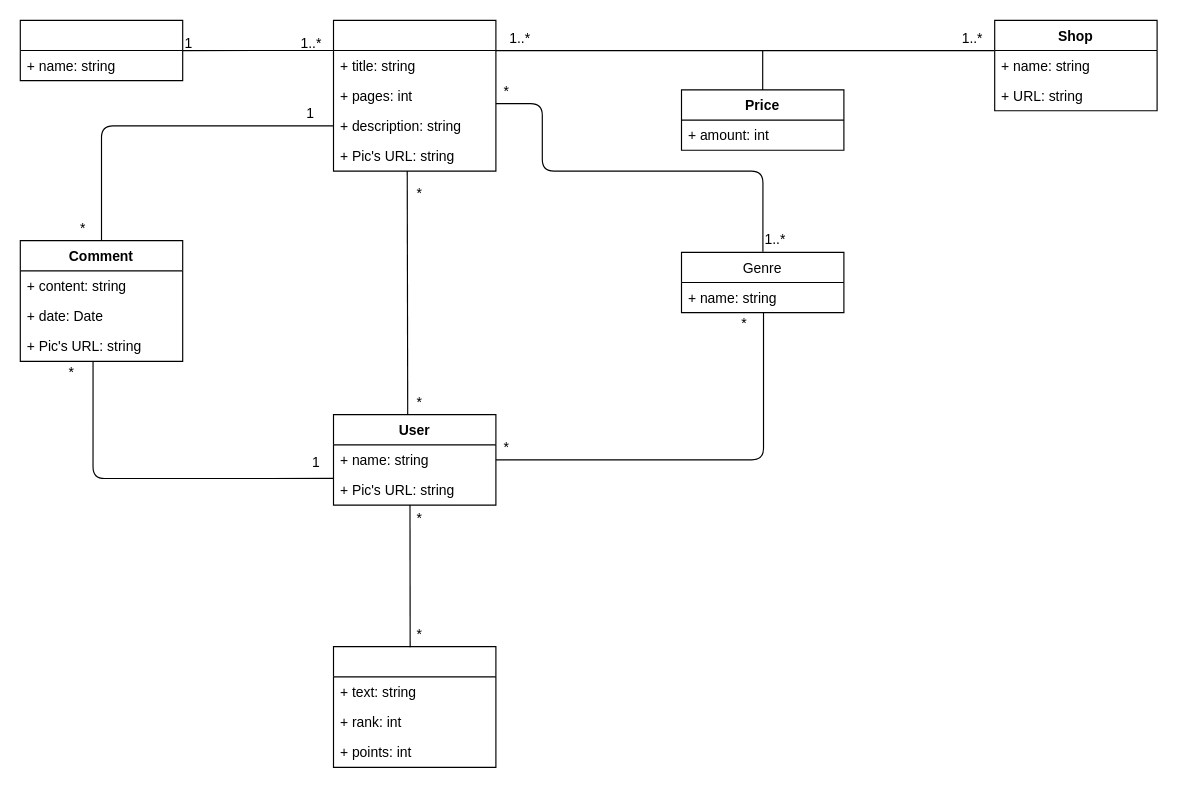
Image size: 1177x791. Some labels were removed from this diagram. Each missing label, with the box of its shape:
Achievement: (332, 646, 496, 767)
Author: (19, 19, 183, 81)
Book: (332, 19, 496, 171)
